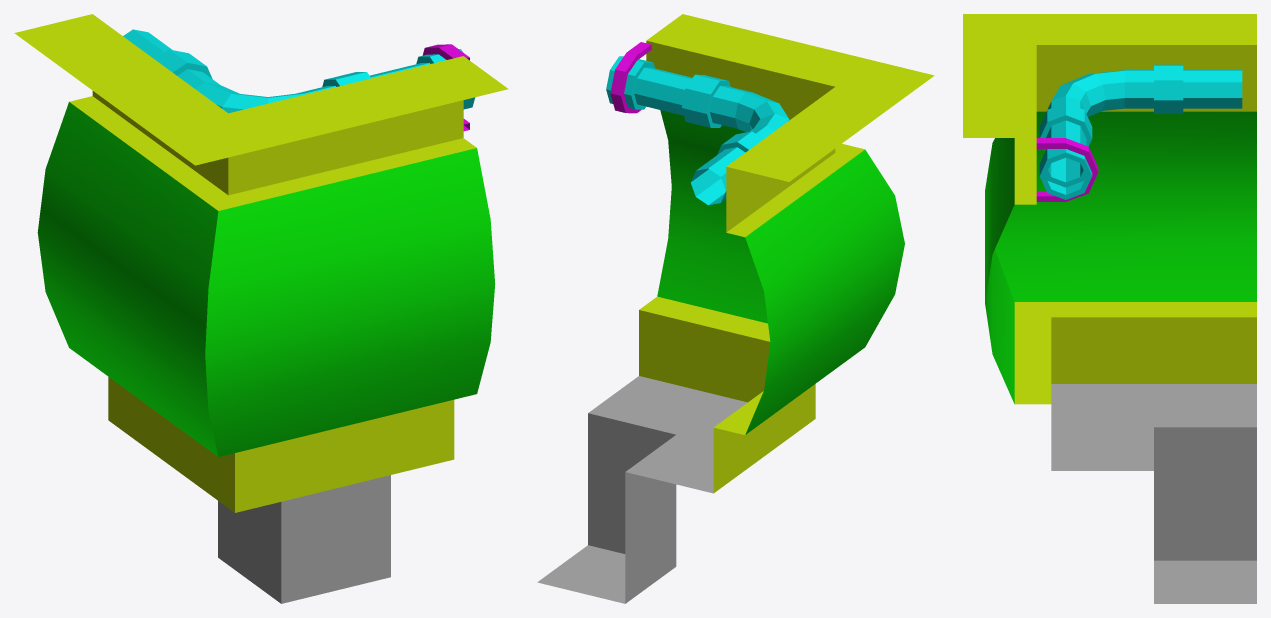
File: Wall_a_corner2.fbx
3 renders of one model, left to right at view 1: azimuth 30°, elevation 25°; view 2: azimuth 150°, elevation 25°; view 3: azimuth 270°, elevation 25°, orthographic. The views are drawn at different scales.
Parts seen in each view (by area): view 1: Wall_corner2:pCube3, Floorplane4, Wall_corner2:Wall_corner:pCylinder1, Wall_corner2:polySurface1, Wall_corner2:pCylinder1; view 2: Wall_corner2:pCube3, Floorplane4, Wall_corner2:Wall_corner:pCylinder1, Wall_corner2:pCylinder2, Wall_corner2:pCylinder1, Wall_corner2:polySurface5, Wall_corner2:Wall_corner:polySurface3, Wall_corner2:Wall_corner:polySurface1, Wall_corner2:polySurface1; view 3: Wall_corner2:pCube3, Floorplane4, Wall_corner2:Wall_corner:pCylinder1, Wall_corner2:pCylinder1, Wall_corner2:Wall_corner:polySurface1, Wall_corner2:polySurface1, Wall_corner2:pCylinder2, Wall_corner2:Wall_corner:polySurface3, Wall_corner2:polySurface5.
Boxes of the visible parts, x1,y1,x2,y2 form: Wall_corner2:pCube3: [14, 14, 508, 512]; Floorplane4: [218, 475, 390, 603]; Wall_corner2:Wall_corner:pCylinder1: [177, 69, 335, 113]; Wall_corner2:polySurface1: [155, 49, 212, 78]; Wall_corner2:pCylinder1: [123, 29, 171, 59]; Wall_corner2:pCube3: [639, 14, 934, 492]; Floorplane4: [537, 376, 747, 603]; Wall_corner2:Wall_corner:pCylinder1: [710, 86, 789, 138]; Wall_corner2:pCylinder2: [634, 67, 692, 115]; Wall_corner2:pCylinder1: [690, 147, 745, 205]; Wall_corner2:polySurface5: [682, 74, 730, 127]; Wall_corner2:Wall_corner:polySurface3: [610, 42, 651, 113]; Wall_corner2:Wall_corner:polySurface1: [606, 56, 654, 109]; Wall_corner2:polySurface1: [717, 131, 763, 154]; Wall_corner2:pCube3: [963, 14, 1256, 404]; Floorplane4: [1051, 384, 1256, 603]; Wall_corner2:Wall_corner:pCylinder1: [1047, 70, 1153, 116]; Wall_corner2:pCylinder1: [1183, 70, 1242, 108]; Wall_corner2:Wall_corner:polySurface1: [1039, 149, 1092, 199]; Wall_corner2:polySurface1: [1154, 64, 1183, 113]; Wall_corner2:pCylinder2: [1045, 120, 1086, 182]; Wall_corner2:Wall_corner:polySurface3: [1036, 138, 1098, 201]; Wall_corner2:polySurface5: [1039, 103, 1092, 150].
Bounding box in the file's own units: 10.5 × 17.5 × 10.
